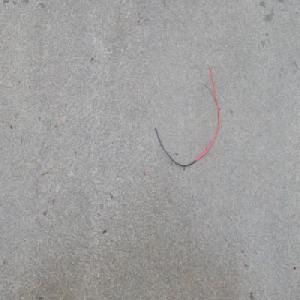Wire: (149, 57, 221, 167)
